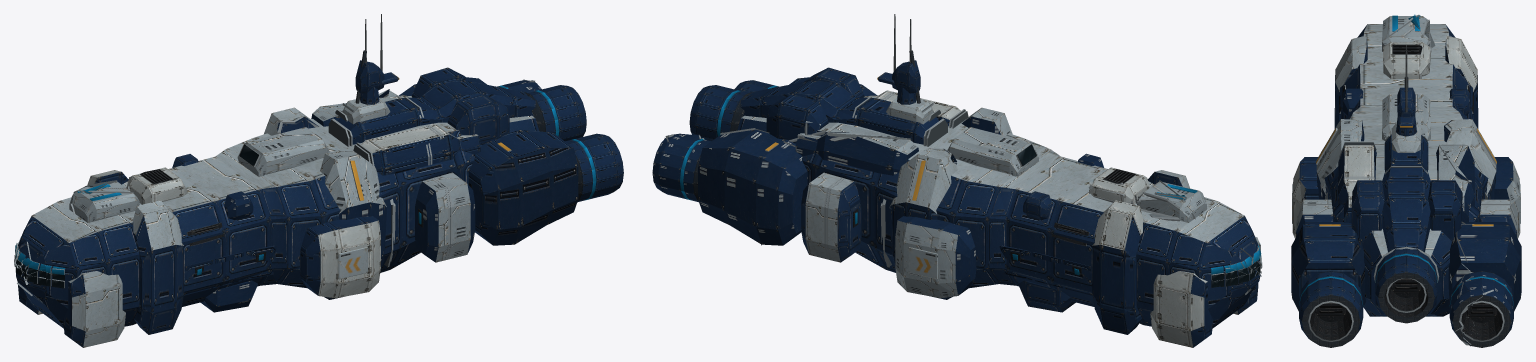
The model's file is concord-frigate-broadside.glb.
3 views of the same model, side by side, from view 1: azimuth 30°, elevation 25°; view 2: azimuth 150°, elevation 25°; view 3: azimuth 270°, elevation 25° (orthographic). The views are drawn at different scales.
Visible parts, largest first — view 1: Frigate wreck forward section, Frigate wreck port armour, Frigate wreck command tower, Frigate wreck ejected structure 2; view 2: Frigate wreck port armour, Frigate wreck forward section, Frigate wreck command tower, Frigate wreck ejected structure 2; view 3: Frigate wreck forward section, Frigate wreck port armour, Frigate wreck command tower, Frigate wreck ejected structure 2.
Part boxes in pixels (bbox=[...]): Frigate wreck forward section: bbox=[17, 67, 623, 347]; Frigate wreck port armour: bbox=[14, 77, 537, 314]; Frigate wreck command tower: bbox=[343, 14, 399, 119]; Frigate wreck ejected structure 2: bbox=[383, 99, 414, 123]; Frigate wreck port armour: bbox=[652, 122, 1261, 347]; Frigate wreck forward section: bbox=[668, 67, 1262, 321]; Frigate wreck command tower: bbox=[877, 14, 932, 119]; Frigate wreck ejected structure 2: bbox=[861, 98, 890, 122]; Frigate wreck forward section: bbox=[1291, 14, 1483, 347]; Frigate wreck port armour: bbox=[1418, 15, 1521, 347]; Frigate wreck command tower: bbox=[1391, 45, 1421, 150]; Frigate wreck ejected structure 2: bbox=[1386, 147, 1426, 167].
Bounding box in the file's own units: 2.25 × 0.9249 × 0.7862.
3 materials, 1 textured.
